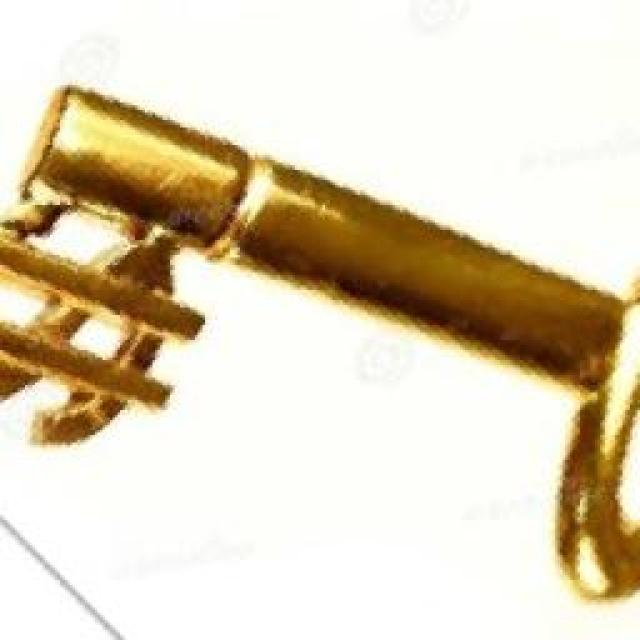anahtar: (0, 46, 640, 618)
